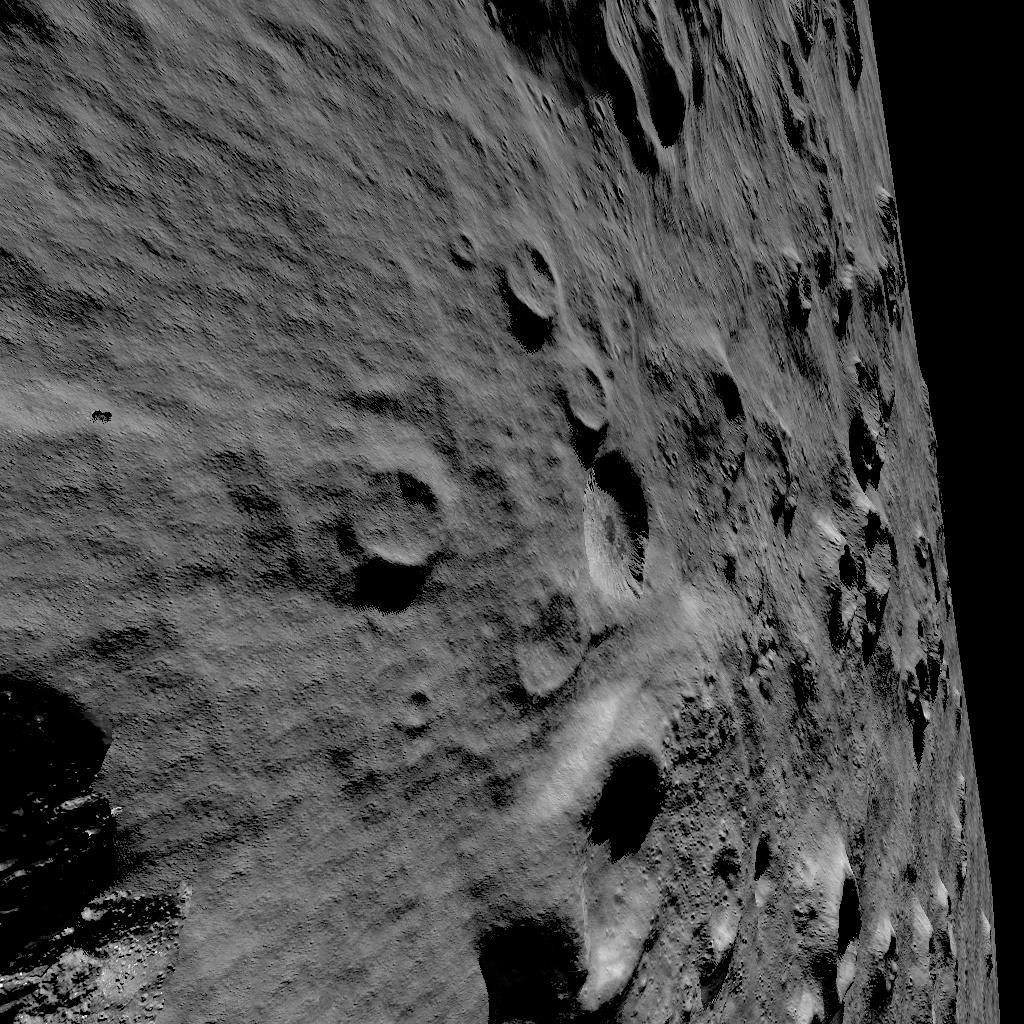Boulders: (0, 635, 213, 1024)
Crater: (494, 715, 688, 1024), (514, 232, 676, 598), (841, 355, 973, 740), (511, 0, 738, 170), (828, 858, 990, 1024), (694, 342, 806, 546), (786, 0, 895, 160), (794, 190, 920, 328), (701, 832, 785, 1024), (358, 460, 460, 573)
Plan surface: (190, 0, 496, 448), (228, 618, 480, 1024), (0, 460, 213, 620)
